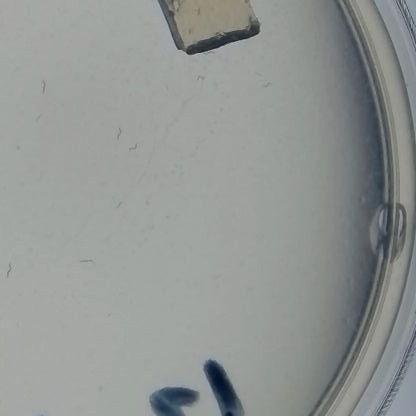worm: (249, 78, 274, 102), (0, 251, 21, 278), (113, 190, 129, 223), (36, 72, 55, 99), (74, 251, 97, 273), (105, 121, 126, 145), (121, 137, 141, 158), (31, 106, 47, 130), (189, 69, 208, 89)
